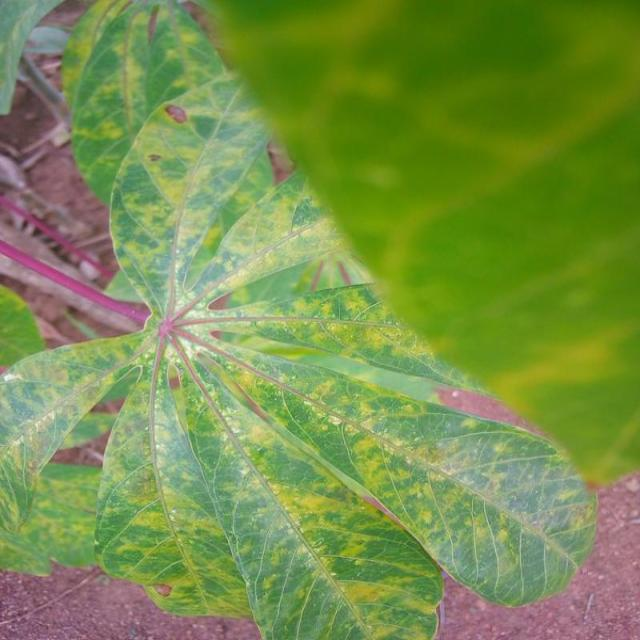cassava leaf: (1, 0, 600, 638)
